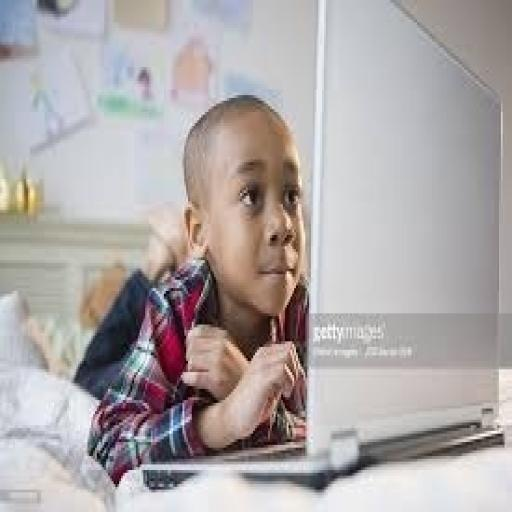using_laptop: (132, 0, 505, 484)
